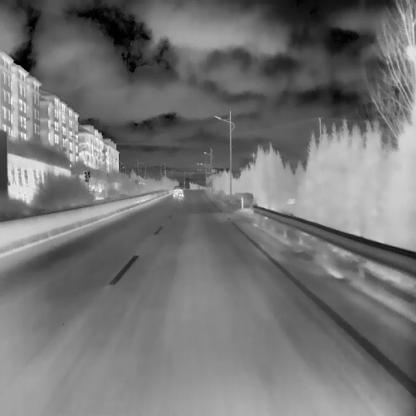car: (171, 184, 183, 196)
